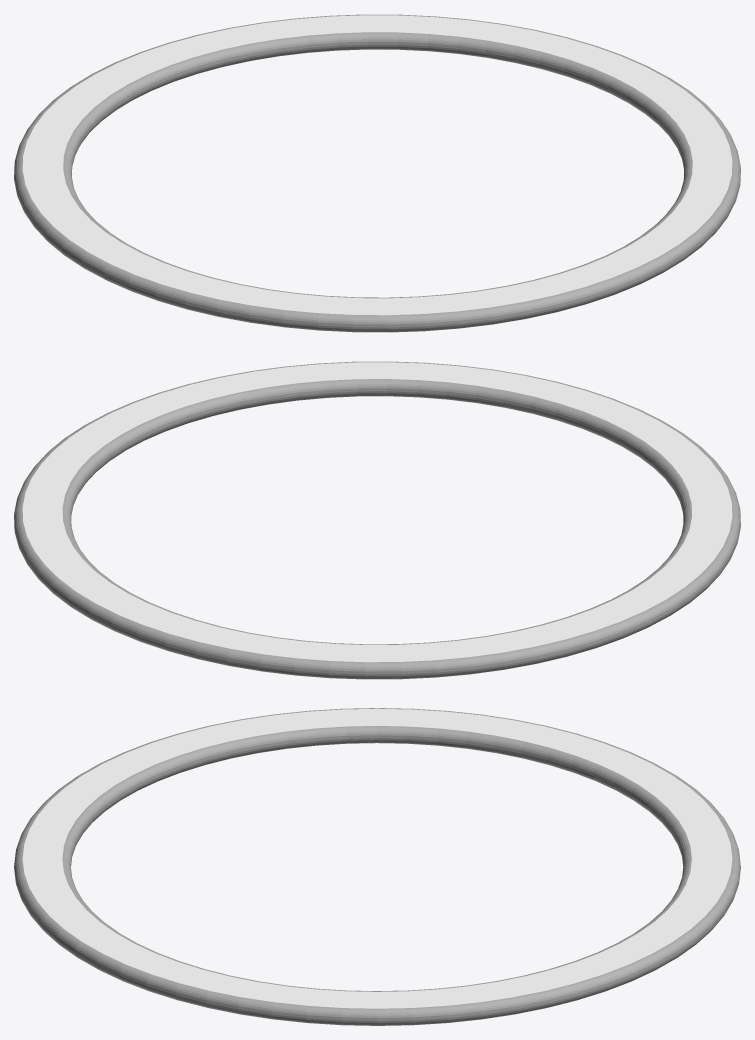
File: RoundedRing_80x80x2.fbx
The picture shows the model from 3 angles, top to bottom: view 1: azimuth 30°, elevation 25°; view 2: azimuth 150°, elevation 25°; view 3: azimuth 270°, elevation 25°; orthographic projection.
Visible parts, largest first — view 1: RoundedRing_80x80x2; view 2: RoundedRing_80x80x2; view 3: RoundedRing_80x80x2.
Boxes of the visible parts, bbox=[...] form: RoundedRing_80x80x2: bbox=[14, 14, 740, 332]; RoundedRing_80x80x2: bbox=[14, 361, 740, 679]; RoundedRing_80x80x2: bbox=[14, 708, 740, 1025].
Size of the model in its own units: 80 by 2 by 80.
